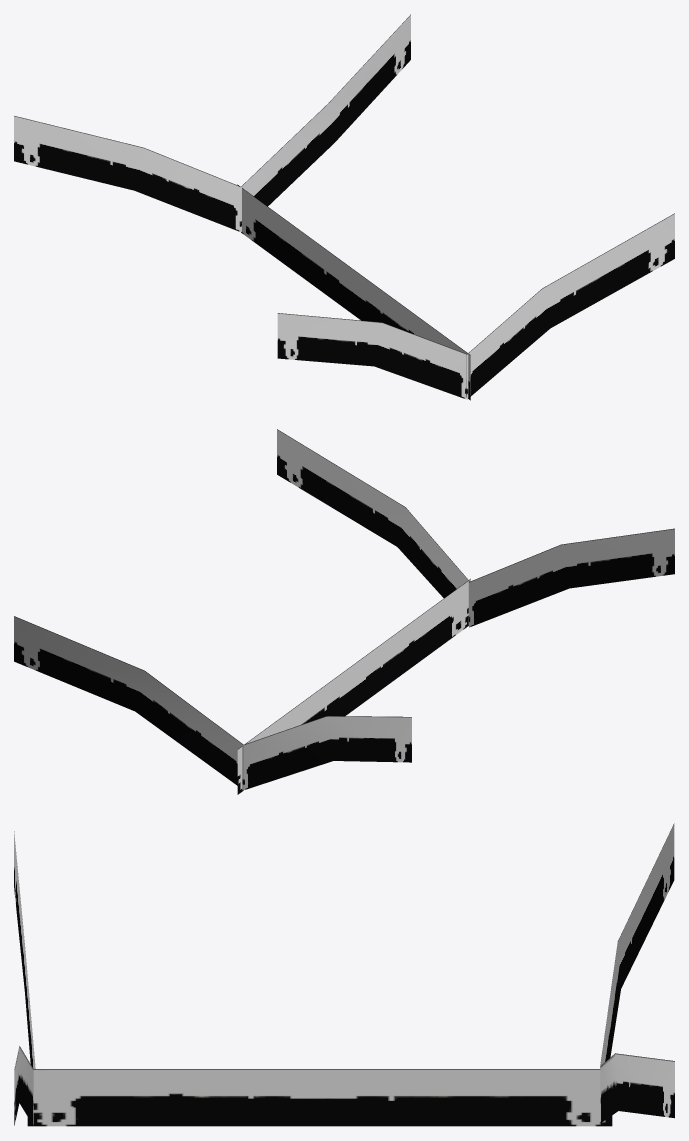
The picture shows the model from 3 angles, top to bottom: view 1: azimuth 30°, elevation 25°; view 2: azimuth 150°, elevation 25°; view 3: azimuth 270°, elevation 25°; orthographic projection. The views are drawn at different scales.
Parts seen in each view (by area): view 1: wy02; view 2: wy02; view 3: wy02.
Boxes of the visible parts, x1,y1,x2,y2 form: wy02: [14, 14, 674, 400]; wy02: [14, 429, 674, 794]; wy02: [14, 823, 674, 1126].
Bounding box in the file's own units: 299 × 107 × 343.
